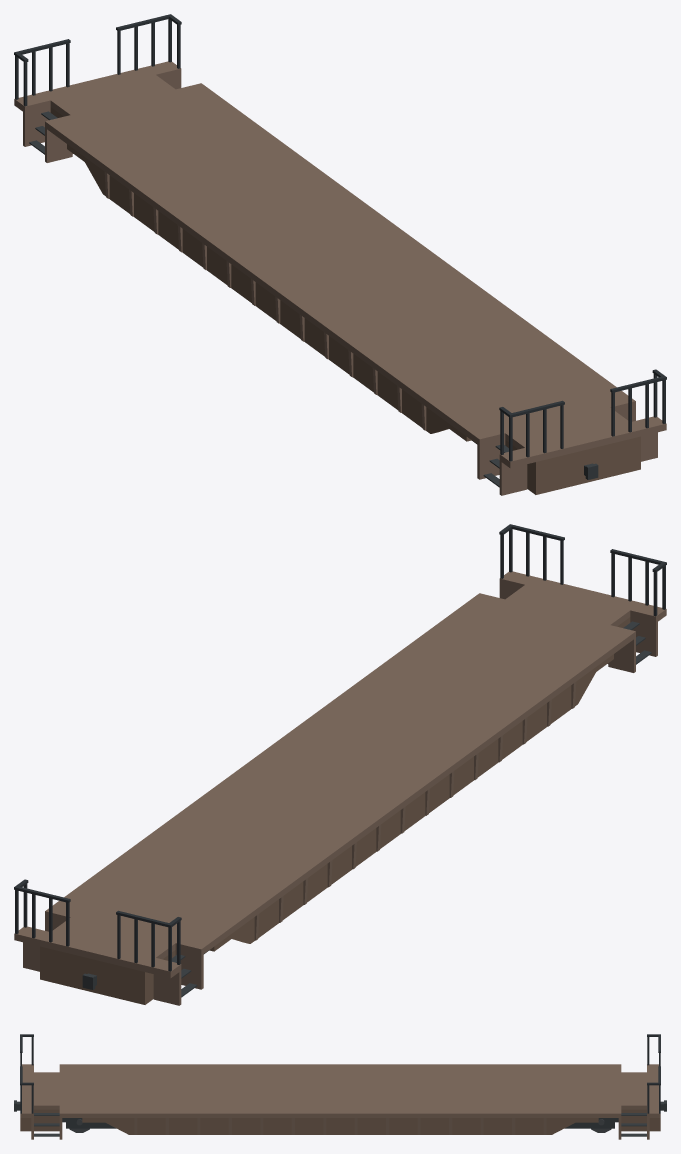
Rendered from Train_03_C1.fbx.
3 renders of one model, top to bottom at view 1: azimuth 30°, elevation 25°; view 2: azimuth 150°, elevation 25°; view 3: azimuth 270°, elevation 25°, orthographic. The views are drawn at different scales.
Visible parts, largest first — view 1: Train_03_C1; view 2: Train_03_C1; view 3: Train_03_C1.
Part boxes in pixels (left/top/right/bottom): Train_03_C1: left=14, top=14, right=666, bottom=495; Train_03_C1: left=14, top=524, right=666, bottom=1005; Train_03_C1: left=14, top=1034, right=666, bottom=1139.
Size of the model in its own units: 351 by 202 by 1958.
